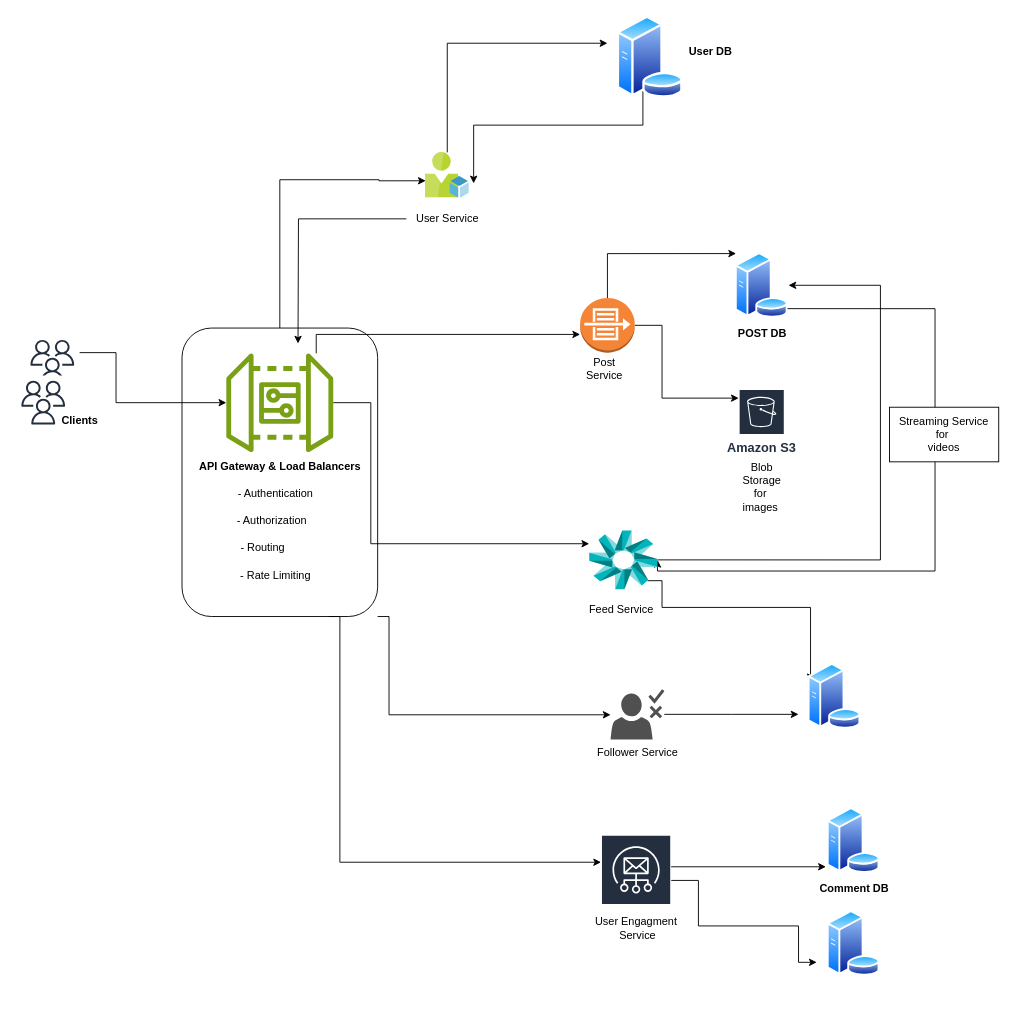
Some shapes in this 1015 by 1013 pixel diagram are drawn without their labels. The box of each missing label's shape, as (x1, y1, x2, y2) in pixels:
Follower DB: (807, 663, 861, 728)
Like DB: (826, 910, 880, 976)
